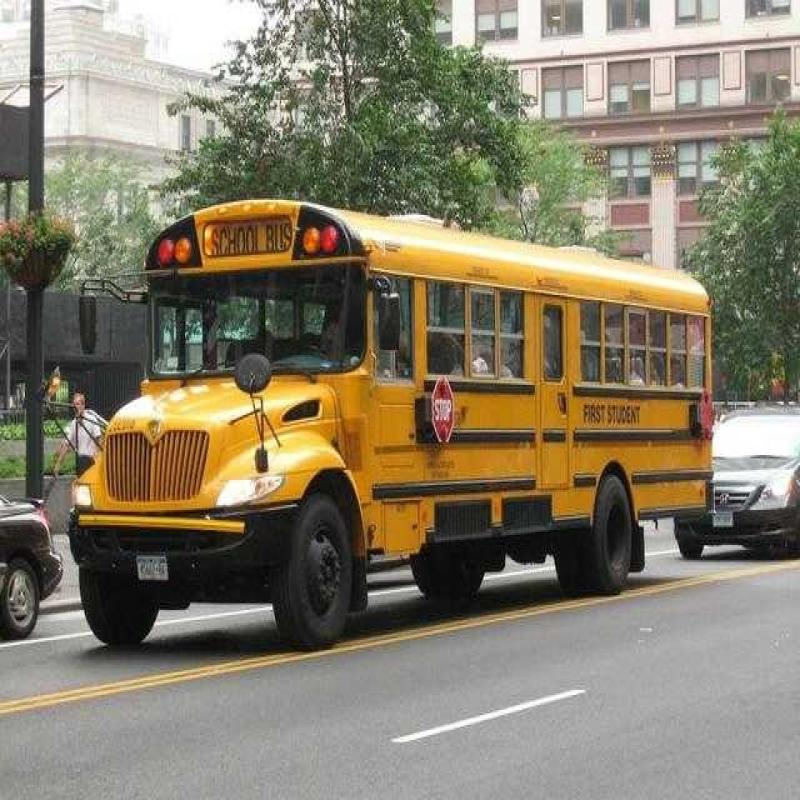bus: (50, 192, 705, 618)
